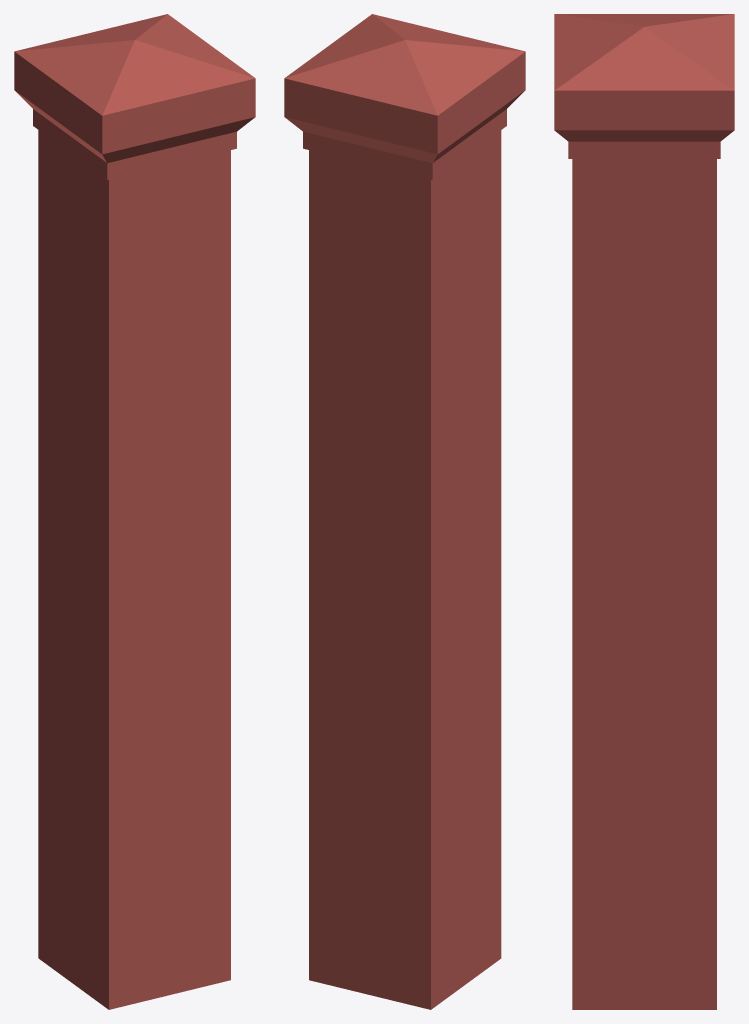
The model's file is fencepost2.obj.
3 views of the same model, side by side, from view 1: azimuth 30°, elevation 25°; view 2: azimuth 150°, elevation 25°; view 3: azimuth 270°, elevation 25° (orthographic). The views are drawn at different scales.
Parts seen in each view (by area): view 1: post, postcap; view 2: post, postcap; view 3: post, postcap.
Part boxes in pixels (x1,y1,x2,y2): post: (38,130,230,1009); postcap: (14,14,255,180); post: (309,130,501,1009); postcap: (284,14,525,180); post: (572,159,716,1009); postcap: (554,14,734,158).
Bounding box in the file's own units: 0.9659 × 5.59 × 0.9586.
